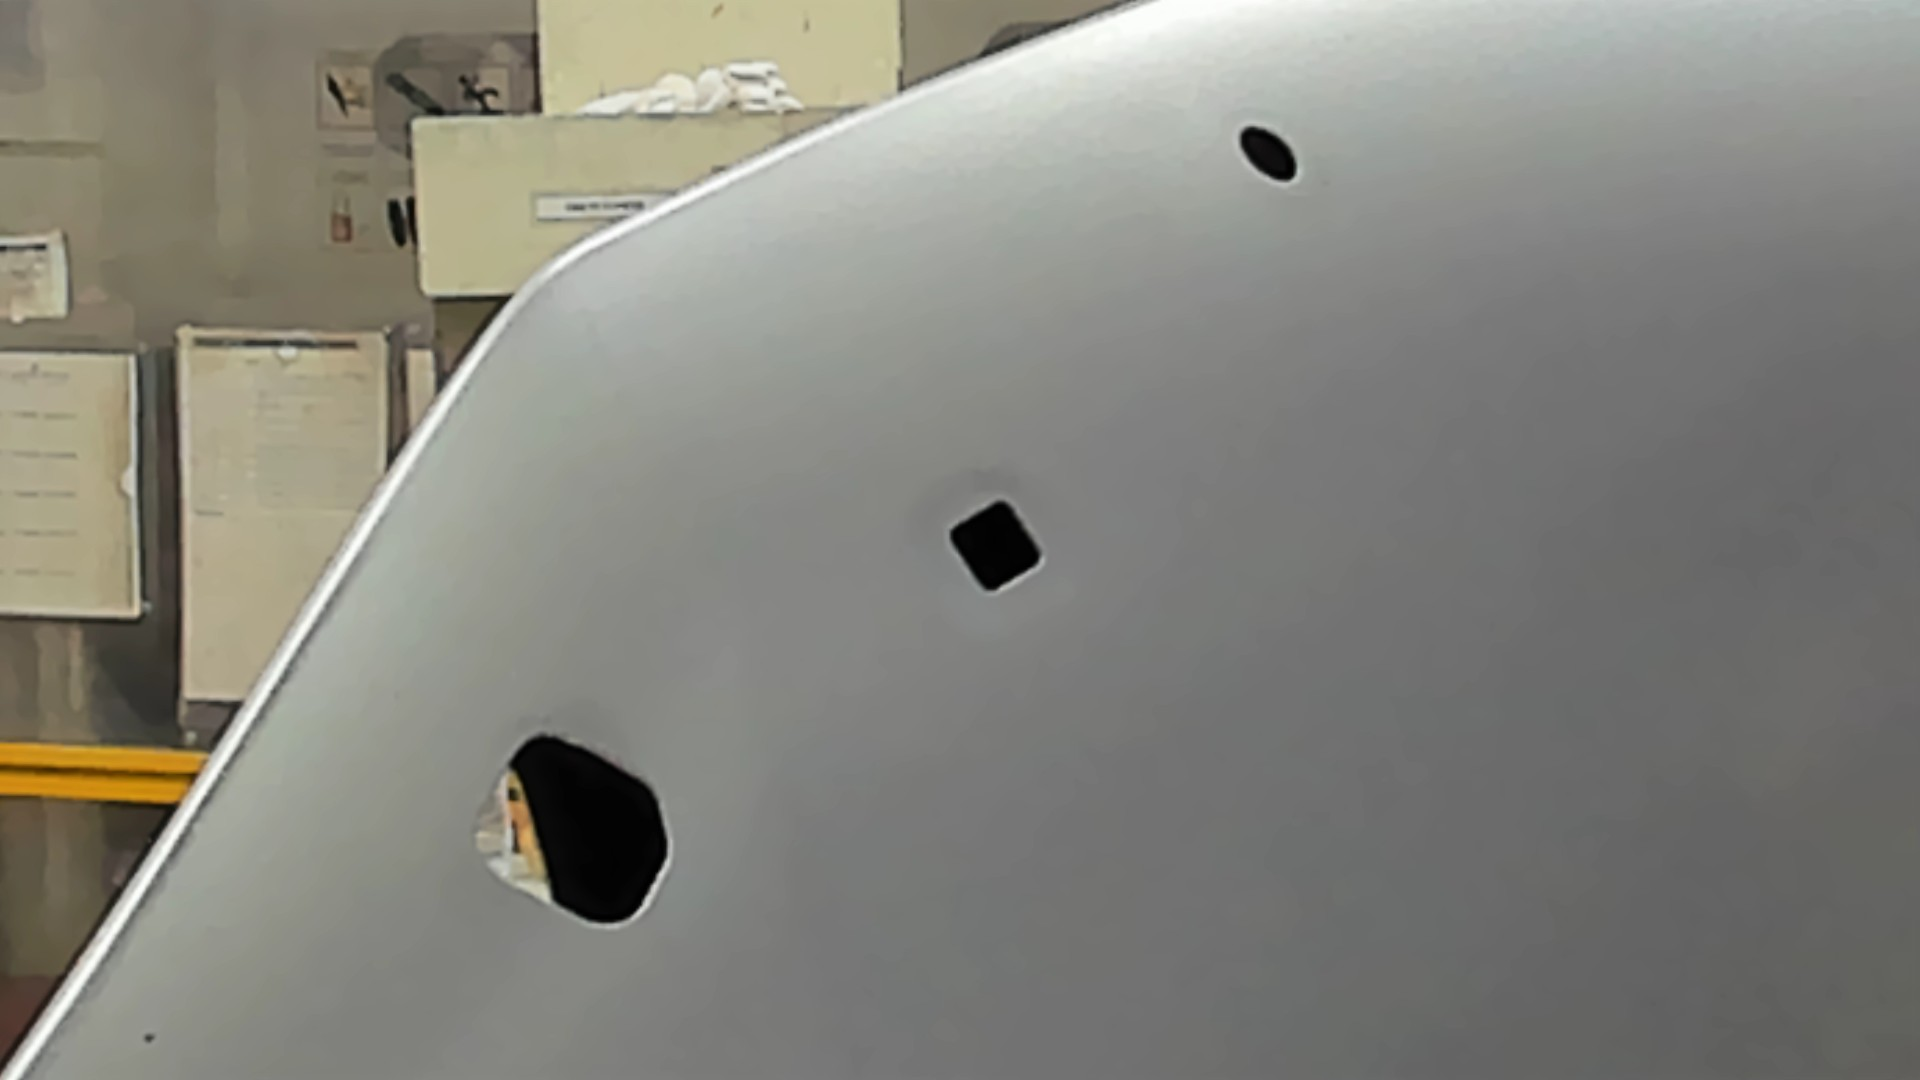capo: (1058, 200, 1920, 1080)
chico: (1233, 119, 1302, 186)
grande: (462, 725, 678, 930)
mediano: (942, 491, 1047, 597)
